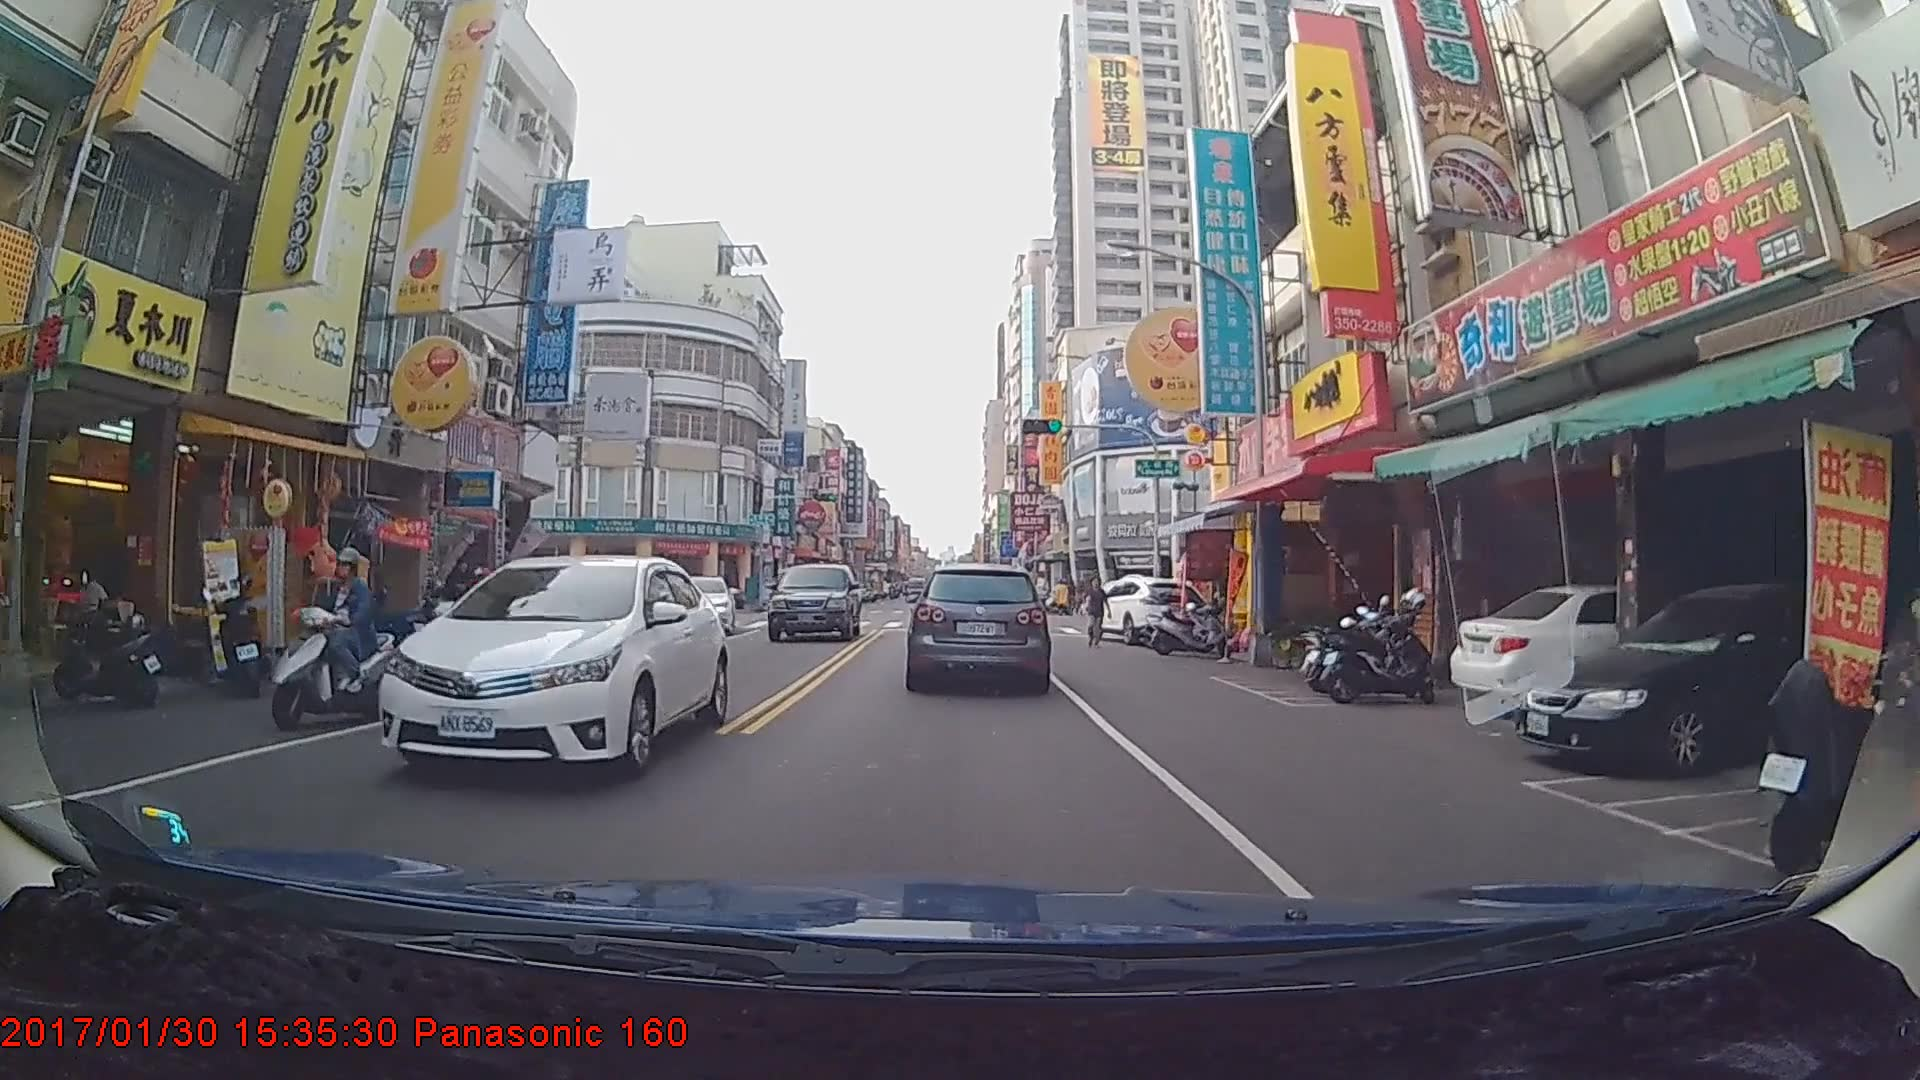pedestrian: (1084, 578, 1109, 652)
rider: (260, 549, 394, 735)
vehicle: (376, 547, 730, 781), (1512, 576, 1907, 778), (908, 562, 1048, 690), (1082, 575, 1213, 645), (768, 563, 862, 643), (654, 572, 733, 636), (903, 576, 928, 604)
